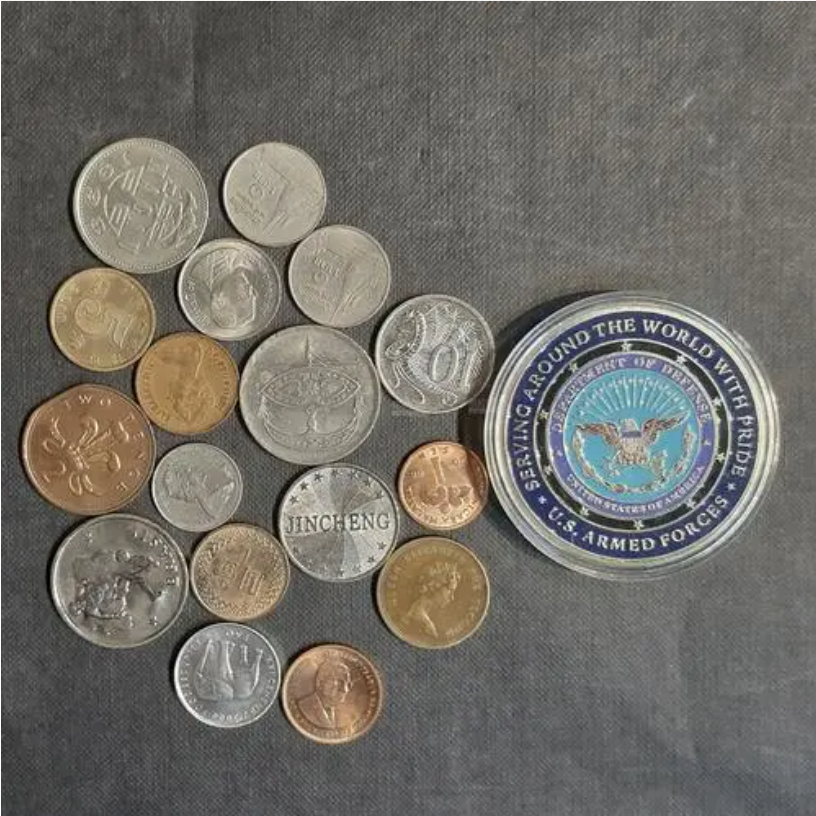coin: (234, 325, 382, 466), (67, 136, 211, 273), (46, 513, 191, 648), (15, 382, 156, 519), (271, 462, 400, 583), (372, 295, 498, 414), (372, 534, 493, 649), (170, 621, 281, 729), (46, 265, 159, 371), (218, 140, 327, 249), (287, 221, 394, 331), (138, 331, 240, 437), (178, 239, 285, 340), (189, 522, 292, 624), (281, 644, 383, 744), (396, 438, 492, 532), (149, 441, 245, 533)
